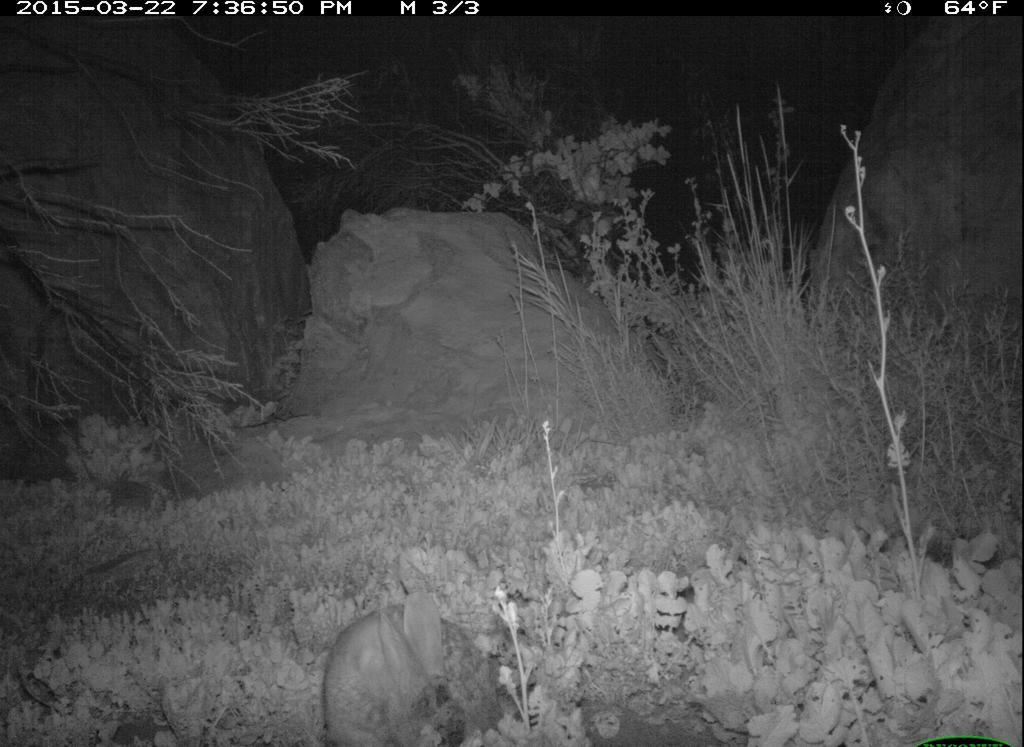rabbit: (310, 591, 524, 745)
